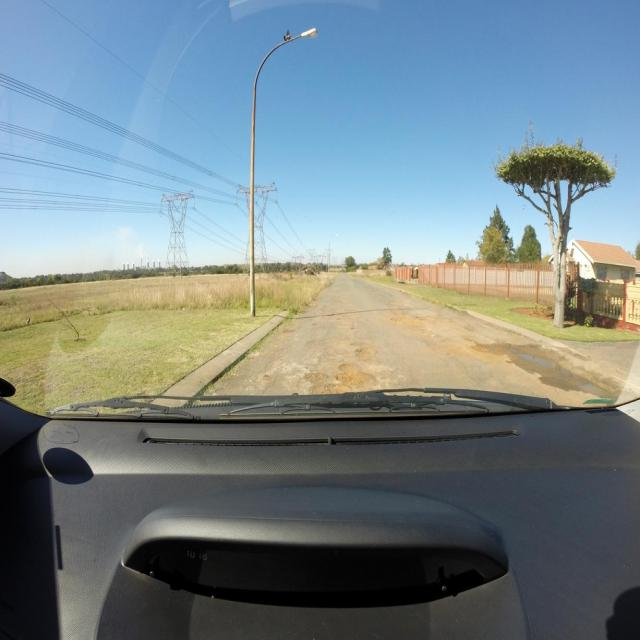Pothole: (335, 363, 372, 385), (312, 384, 351, 394), (392, 316, 422, 325), (360, 347, 371, 354)
